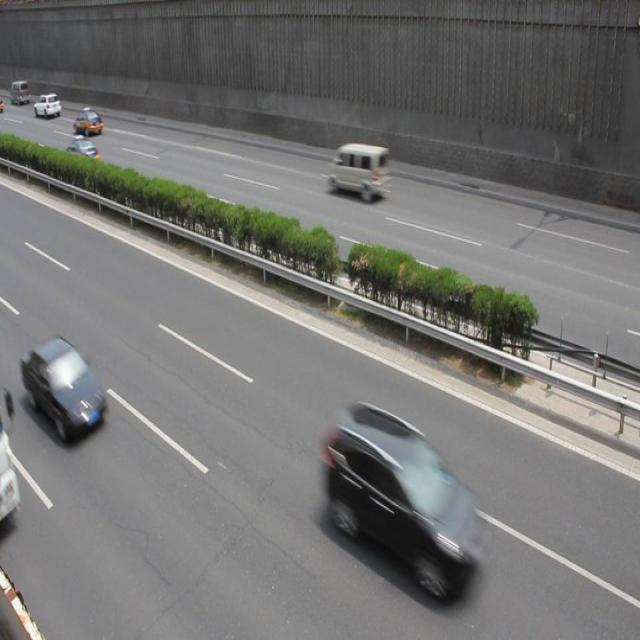car: (320, 399, 483, 602), (20, 334, 105, 436), (64, 134, 99, 173), (72, 105, 102, 139), (34, 92, 64, 120)
truck: (325, 144, 388, 202)
